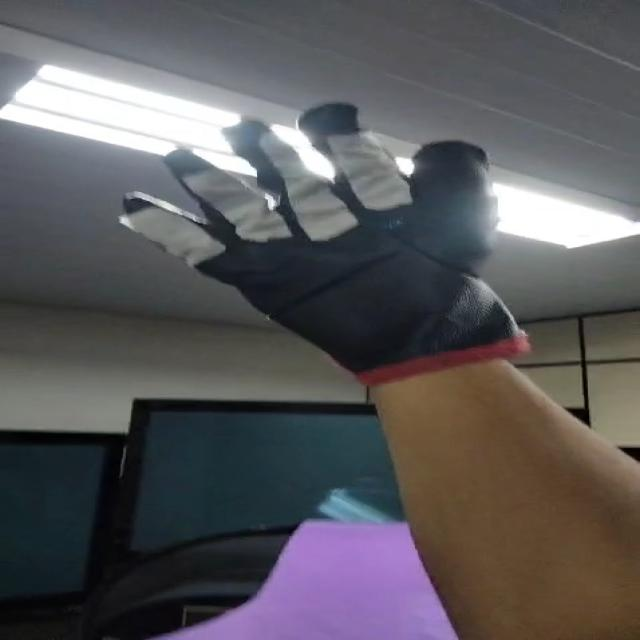Gloves: (110, 103, 536, 390)
